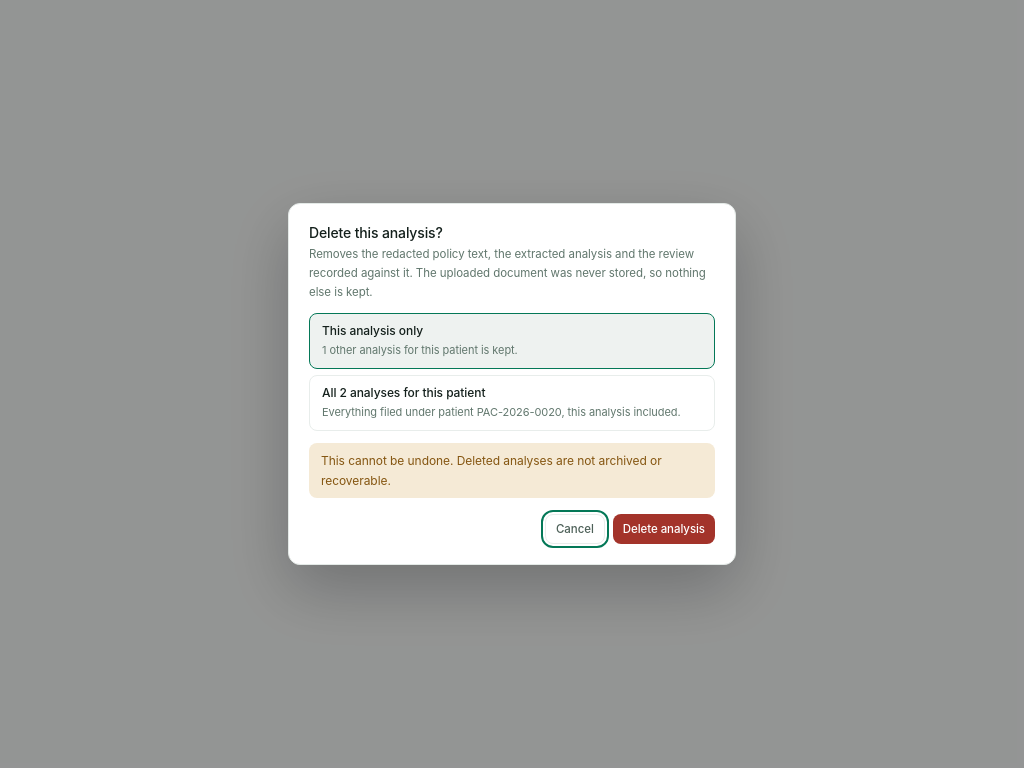
Test: DeleteAnalysisDialog › keeps the dialog open and shows the server message when the erasure fails
What coordinates should you click on to do the following:
click the button "Delete analysis"
I would click on:
 (664, 529)
Its box is [613,514,715,544].
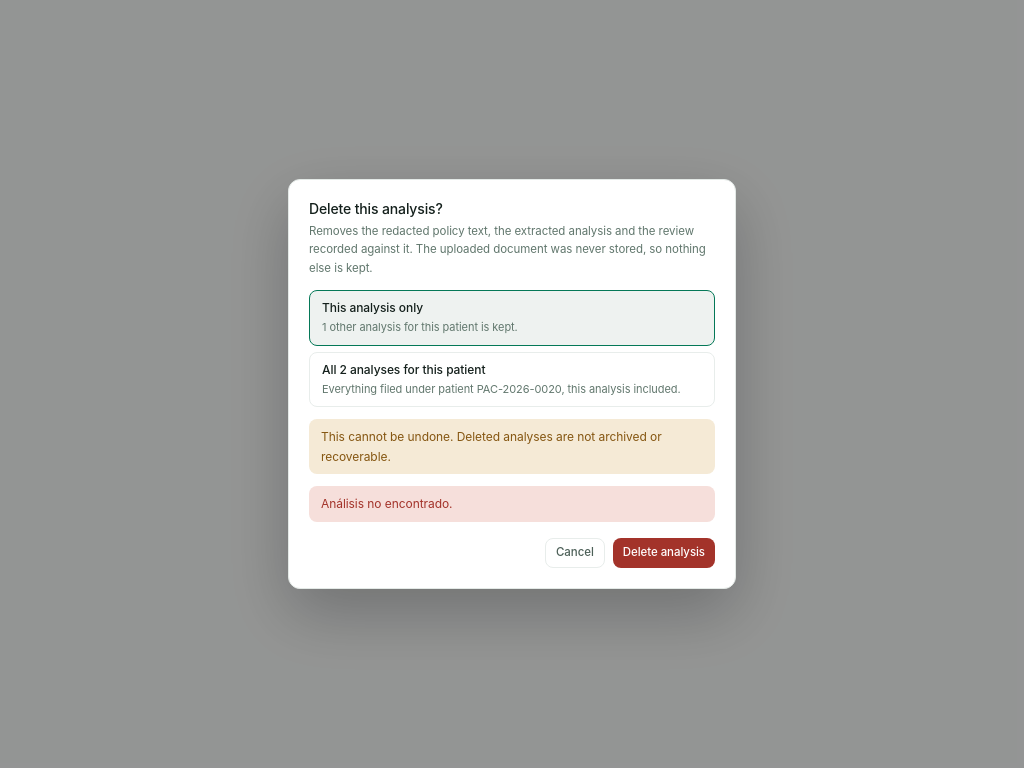
Expected: the dialog is shown, [288,179,736,589]
Result: the text "Análisis no encontrado." is shown at [309,486,715,522]
